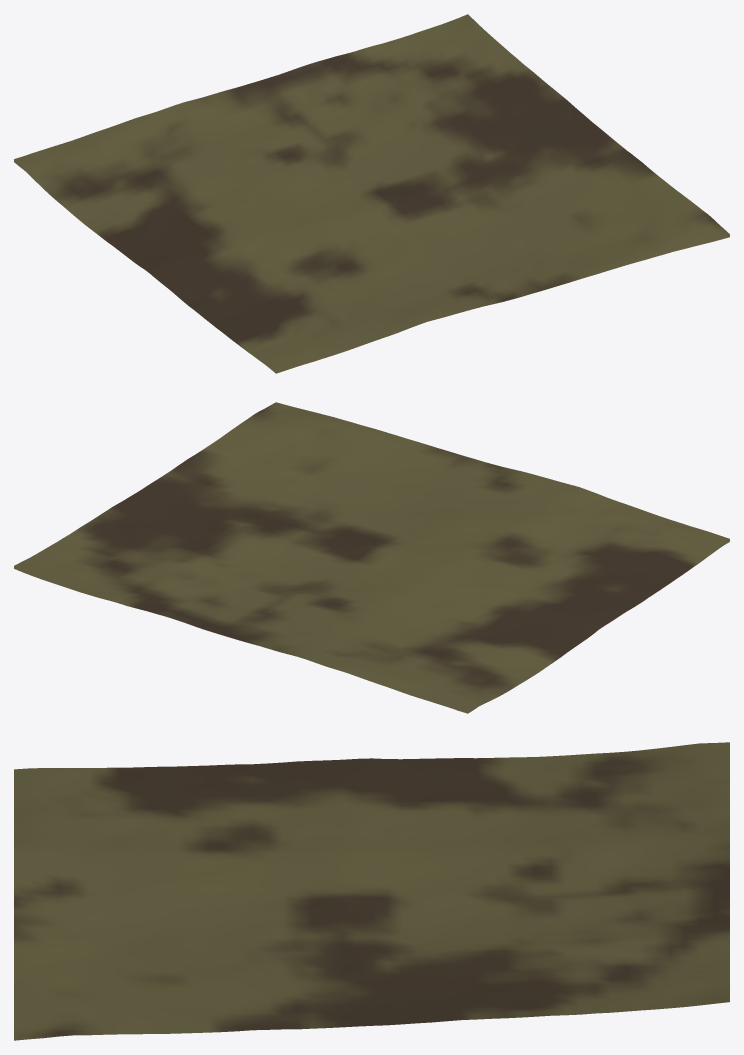
The model's file is land_m_15_00.glb.
3 renders of one model, top to bottom at view 1: azimuth 30°, elevation 25°; view 2: azimuth 150°, elevation 25°; view 3: azimuth 270°, elevation 25°, orthographic. The views are drawn at different scales.
Visible parts, largest first — view 1: land_m_15_00; view 2: land_m_15_00; view 3: land_m_15_00.
Part boxes in pixels (x1,y1,x2,y2): land_m_15_00: [14, 14, 729, 373]; land_m_15_00: [14, 402, 729, 713]; land_m_15_00: [14, 742, 729, 1040].
Bounding box in the file's own units: 960 × 115 × 960.
